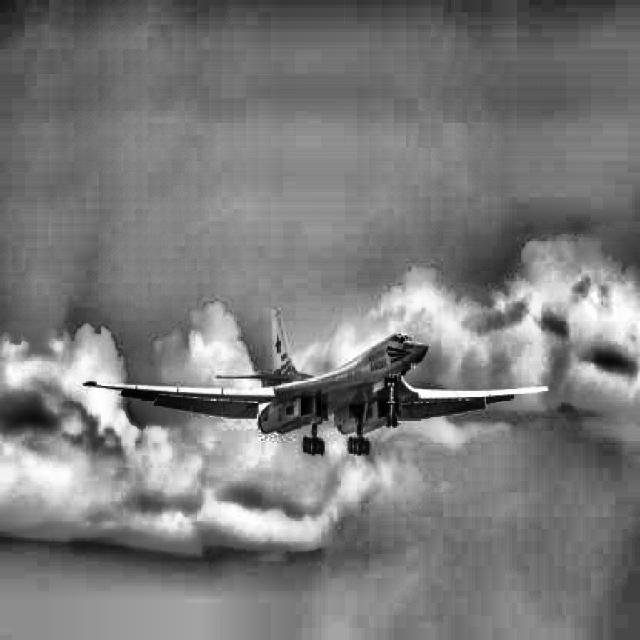Tu160: (82, 306, 550, 456)
